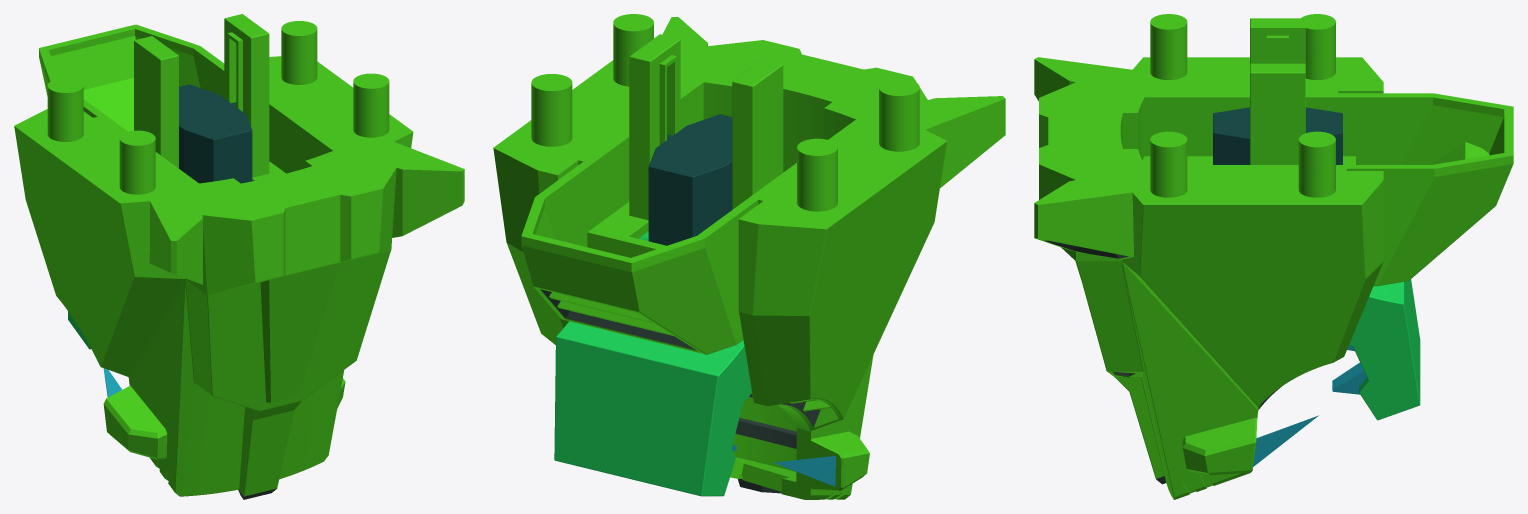
File: lion_skull.glb
3 renders of one model, left to right at view 1: azimuth 30°, elevation 25°; view 2: azimuth 150°, elevation 25°; view 3: azimuth 270°, elevation 25°, orthographic. The views are drawn at different scales.
Parts seen in each view (by area): view 1: Object_2, Object_6; view 2: Object_2, Object_4, Object_6, Object_3, Object_7; view 3: Object_2, Object_4, Object_6, Object_7, Object_3.
Boxes of the visible parts, left/top/right/bottom form: Object_2: left=14, top=14, right=464, bottom=496; Object_6: left=179, top=84, right=252, bottom=183; Object_2: left=493, top=14, right=1005, bottom=499; Object_4: left=554, top=231, right=751, bottom=496; Object_6: left=648, top=114, right=732, bottom=245; Object_3: left=541, top=289, right=820, bottom=493; Object_7: left=731, top=445, right=835, bottom=486; Object_2: left=1034, top=14, right=1513, bottom=499; Object_4: left=1349, top=279, right=1420, bottom=420; Object_6: left=1213, top=107, right=1342, bottom=164; Object_7: left=1253, top=345, right=1366, bottom=466; Object_3: left=1044, top=240, right=1280, bottom=484.
Bounding box in the file's own units: 189 × 257 × 258.
